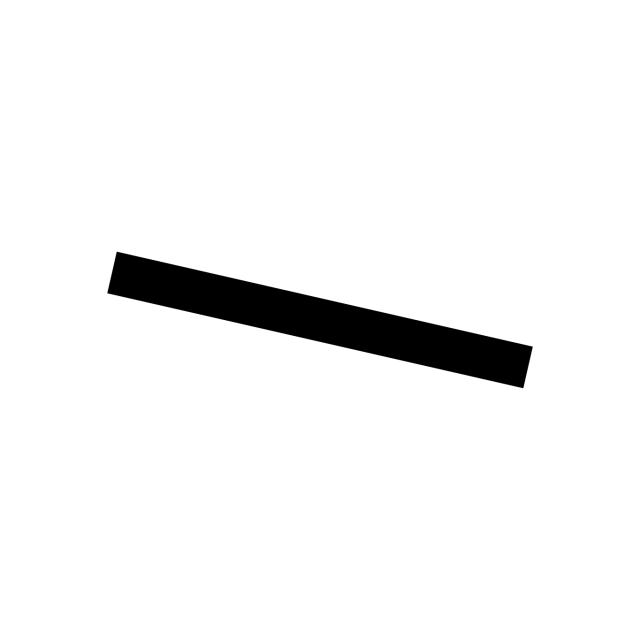line: (107, 252, 533, 388)
